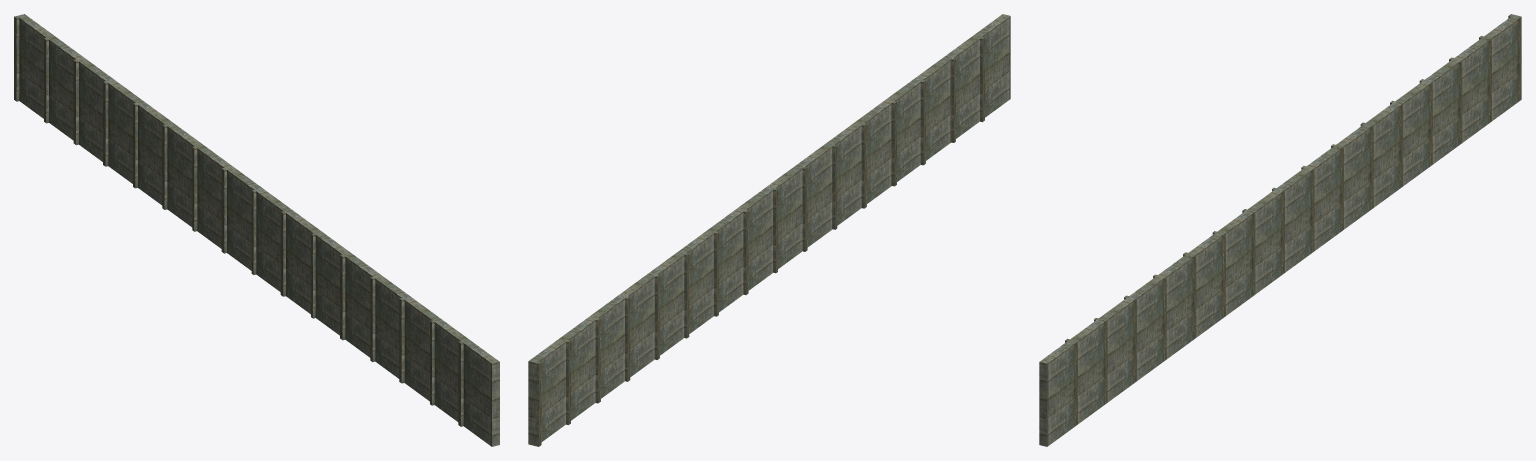
Rendered from AMB_BLOCK_L.glb.
3 renders of one model, left to right at view 1: azimuth 30°, elevation 25°; view 2: azimuth 150°, elevation 25°; view 3: azimuth 330°, elevation 25°, orthographic.
Parts seen in each view (by area): view 1: block1; view 2: block1; view 3: block1.
Part boxes in pixels (x1=…): block1: x1=14, y1=14, x2=499, y2=446; block1: x1=528, y1=14, x2=1010, y2=446; block1: x1=1039, y1=14, x2=1521, y2=446.
Bounding box in the file's own units: 1.29 × 9.67 × 100.
Materials: 1 (1 with a texture image).
